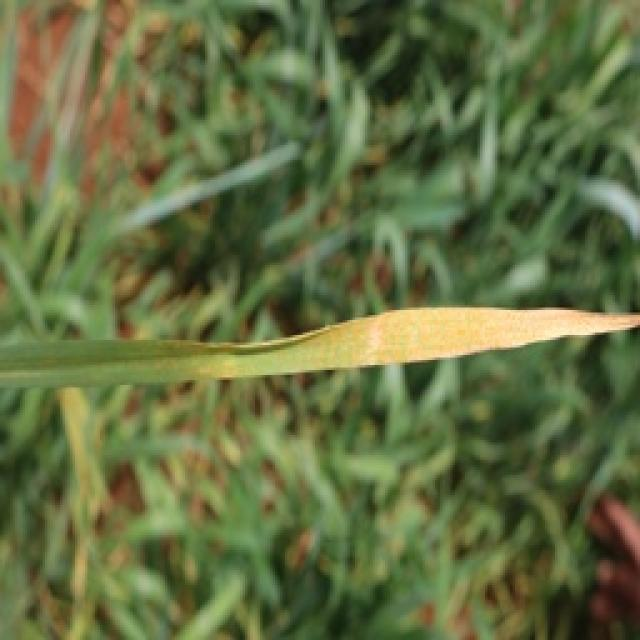Healthy Wheat: (0, 0, 638, 638)
Yellow Rust: (0, 300, 638, 390)
